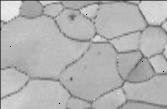good_void: (68, 14, 77, 20), (69, 76, 74, 81)
